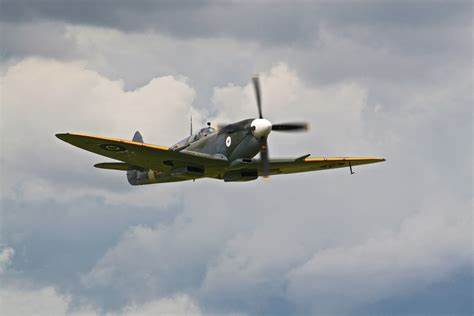Aeronef_militaire: (51, 68, 400, 199)
